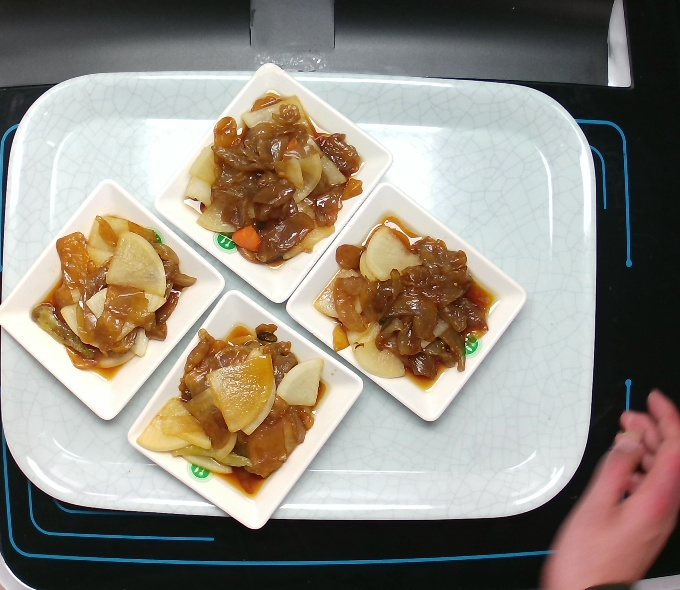wcq-HaiZheTou: (134, 319, 331, 497), (183, 87, 368, 271), (312, 214, 493, 389), (28, 205, 199, 377)
